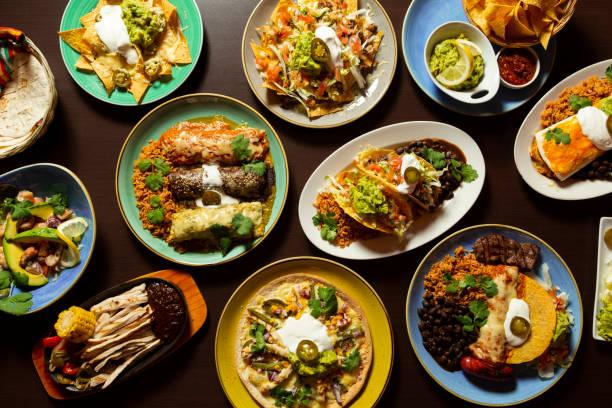Braised Crucian Carp: (406, 225, 581, 407), (114, 92, 280, 266), (214, 256, 390, 408), (297, 120, 481, 260), (36, 267, 208, 399), (404, 1, 584, 119), (238, 0, 390, 131), (58, 1, 200, 107), (2, 163, 96, 316), (513, 59, 610, 200)
